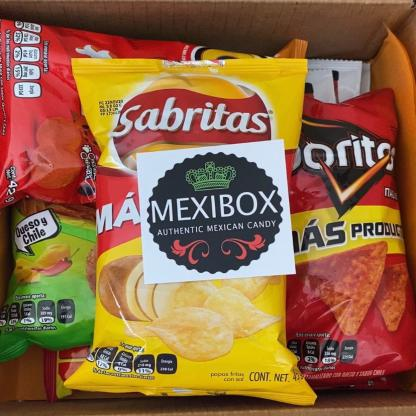potatochip: (61, 43, 320, 412), (0, 8, 316, 211), (226, 82, 416, 386), (0, 34, 173, 360)
